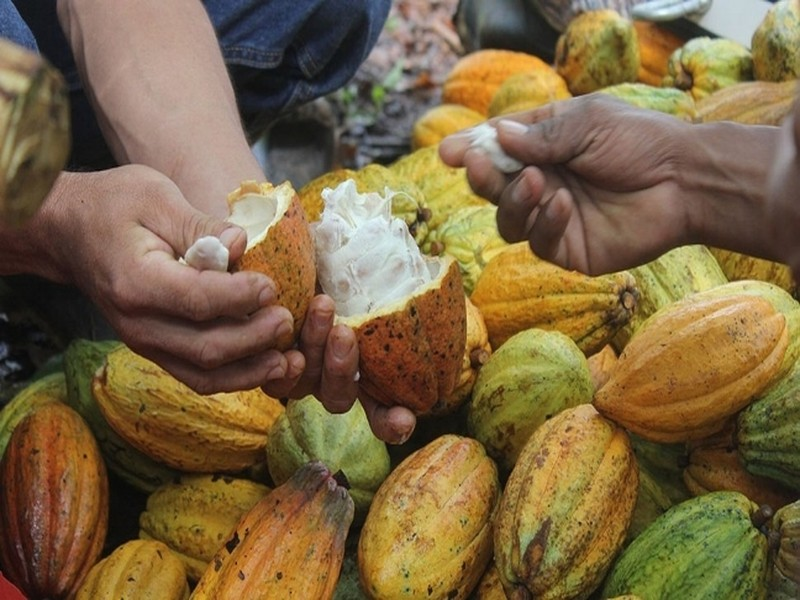Cacaopod: (595, 281, 800, 435), (495, 405, 639, 600), (360, 434, 499, 600), (185, 463, 353, 600), (2, 402, 112, 600)
